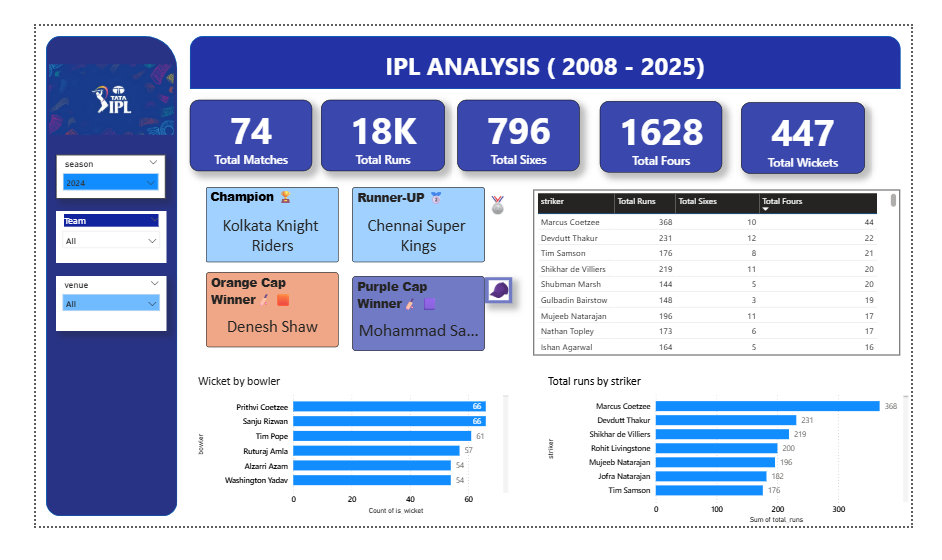

The page's visual inventory and layout, read from the dashboard file:
{"tool":"powerbi","page":{"name":"Awards & Player Analysis","canvas":[1400,800],"ordinal":1},"visuals":[{"type":"shape","box":[15,15,210,768.3],"z":0},{"type":"card","fields":{"Values":["deliveries.Total Matches"]},"box":[246,118,196,114],"z":1000},{"type":"shape","box":[245,15,1137.5,85],"z":2000},{"type":"card","fields":{"Values":["deliveries.Total Wickets"]},"box":[1128,122,198,114],"z":3000},{"type":"card","fields":{"Values":["deliveries.Total Fours"]},"box":[902,120,196,114],"z":4000},{"type":"card","fields":{"Values":["deliveries.Total Sixes"]},"box":[674,118,196,114],"z":5000},{"type":"card","fields":{"Values":["deliveries.Total Runs"]},"box":[456,118,198,114],"z":6000},{"type":"image","box":[15,30,210,175],"z":7000},{"type":"slicer","fields":{"Values":["matches.venue"]},"box":[31.7,400,176.7,88.3],"z":8000},{"type":"slicer","fields":{"Values":["matches.winner"]},"box":[31.7,295,176.7,83.3],"z":9000},{"type":"slicer","fields":{"Values":["seasons.season"]},"box":[31.7,205,175,70],"z":10000},{"type":"clusteredBarChart","title":"Wicket by bowler","fields":{"Y":["CountNonNull(deliveries.is_wicket)"],"Category":["deliveries.bowler"]},"box":[253.3,555,506.7,230],"z":11000},{"type":"clusteredBarChart","title":"Total runs by striker","fields":{"Category":["deliveries.striker"],"Y":["Sum(deliveries.total_runs)"]},"box":[813.3,555,586.7,245],"z":12000},{"type":"tableEx","fields":{"Values":["deliveries.striker","deliveries.Total Runs","deliveries.Total Sixes","deliveries.Total Fours"]},"box":[796.7,261.7,586.7,265],"z":13000},{"type":"card","title":"Champion 🏆","fields":{"Values":["Min(seasons.champion)"]},"box":[271.1,258.9,212.2,120],"z":14000},{"type":"card","title":"Runner-UP 🥈","fields":{"Values":["Min(seasons.runner_up)"]},"box":[506.7,258.3,211.7,120],"z":15000},{"type":"card","title":"Purple Cap Winner🏏 🟪","fields":{"Values":["Min(seasons.purple_cap_winner)"]},"box":[506.7,400,211.7,120],"z":16000},{"type":"card","title":"Orange Cap Winner🏏 🟧","fields":{"Values":["Min(seasons.orange_cap_winner)"]},"box":[272,394,212,120],"z":17000},{"type":"image","box":[717.1,402.9,44.3,41.4],"z":18000},{"type":"image","box":[717.1,258.6,41.4,60],"z":18003}]}

Visuals, with their boxes on the page's 1400x800 design canvas (x1, y1, x2, y2). These are canvas units, not pixel positions in the 942x560 screenshot, which may show the page scaled, cropped or inside an application window:
shape: (left=15, top=15, right=225, bottom=783)
card - deliveries.Total Matches: (left=246, top=118, right=442, bottom=232)
shape: (left=245, top=15, right=1382, bottom=100)
card - deliveries.Total Wickets: (left=1128, top=122, right=1326, bottom=236)
card - deliveries.Total Fours: (left=902, top=120, right=1098, bottom=234)
card - deliveries.Total Sixes: (left=674, top=118, right=870, bottom=232)
card - deliveries.Total Runs: (left=456, top=118, right=654, bottom=232)
image: (left=15, top=30, right=225, bottom=205)
slicer - matches.venue: (left=32, top=400, right=208, bottom=488)
slicer - matches.winner: (left=32, top=295, right=208, bottom=378)
slicer - seasons.season: (left=32, top=205, right=207, bottom=275)
"Wicket by bowler" clusteredBarChart: (left=253, top=555, right=760, bottom=785)
"Total runs by striker" clusteredBarChart: (left=813, top=555, right=1400, bottom=800)
tableEx - deliveries.striker x deliveries.Total Runs: (left=797, top=262, right=1383, bottom=527)
"Champion 🏆" card: (left=271, top=259, right=483, bottom=379)
"Runner-UP 🥈" card: (left=507, top=258, right=718, bottom=378)
"Purple Cap Winner🏏 🟪" card: (left=507, top=400, right=718, bottom=520)
"Orange Cap Winner🏏 🟧" card: (left=272, top=394, right=484, bottom=514)
image: (left=717, top=403, right=761, bottom=444)
image: (left=717, top=259, right=758, bottom=319)
